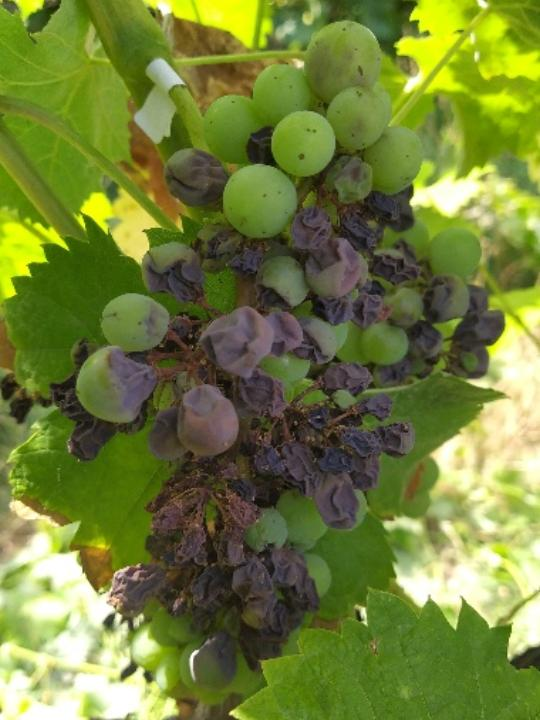grape: (43, 19, 509, 707)
